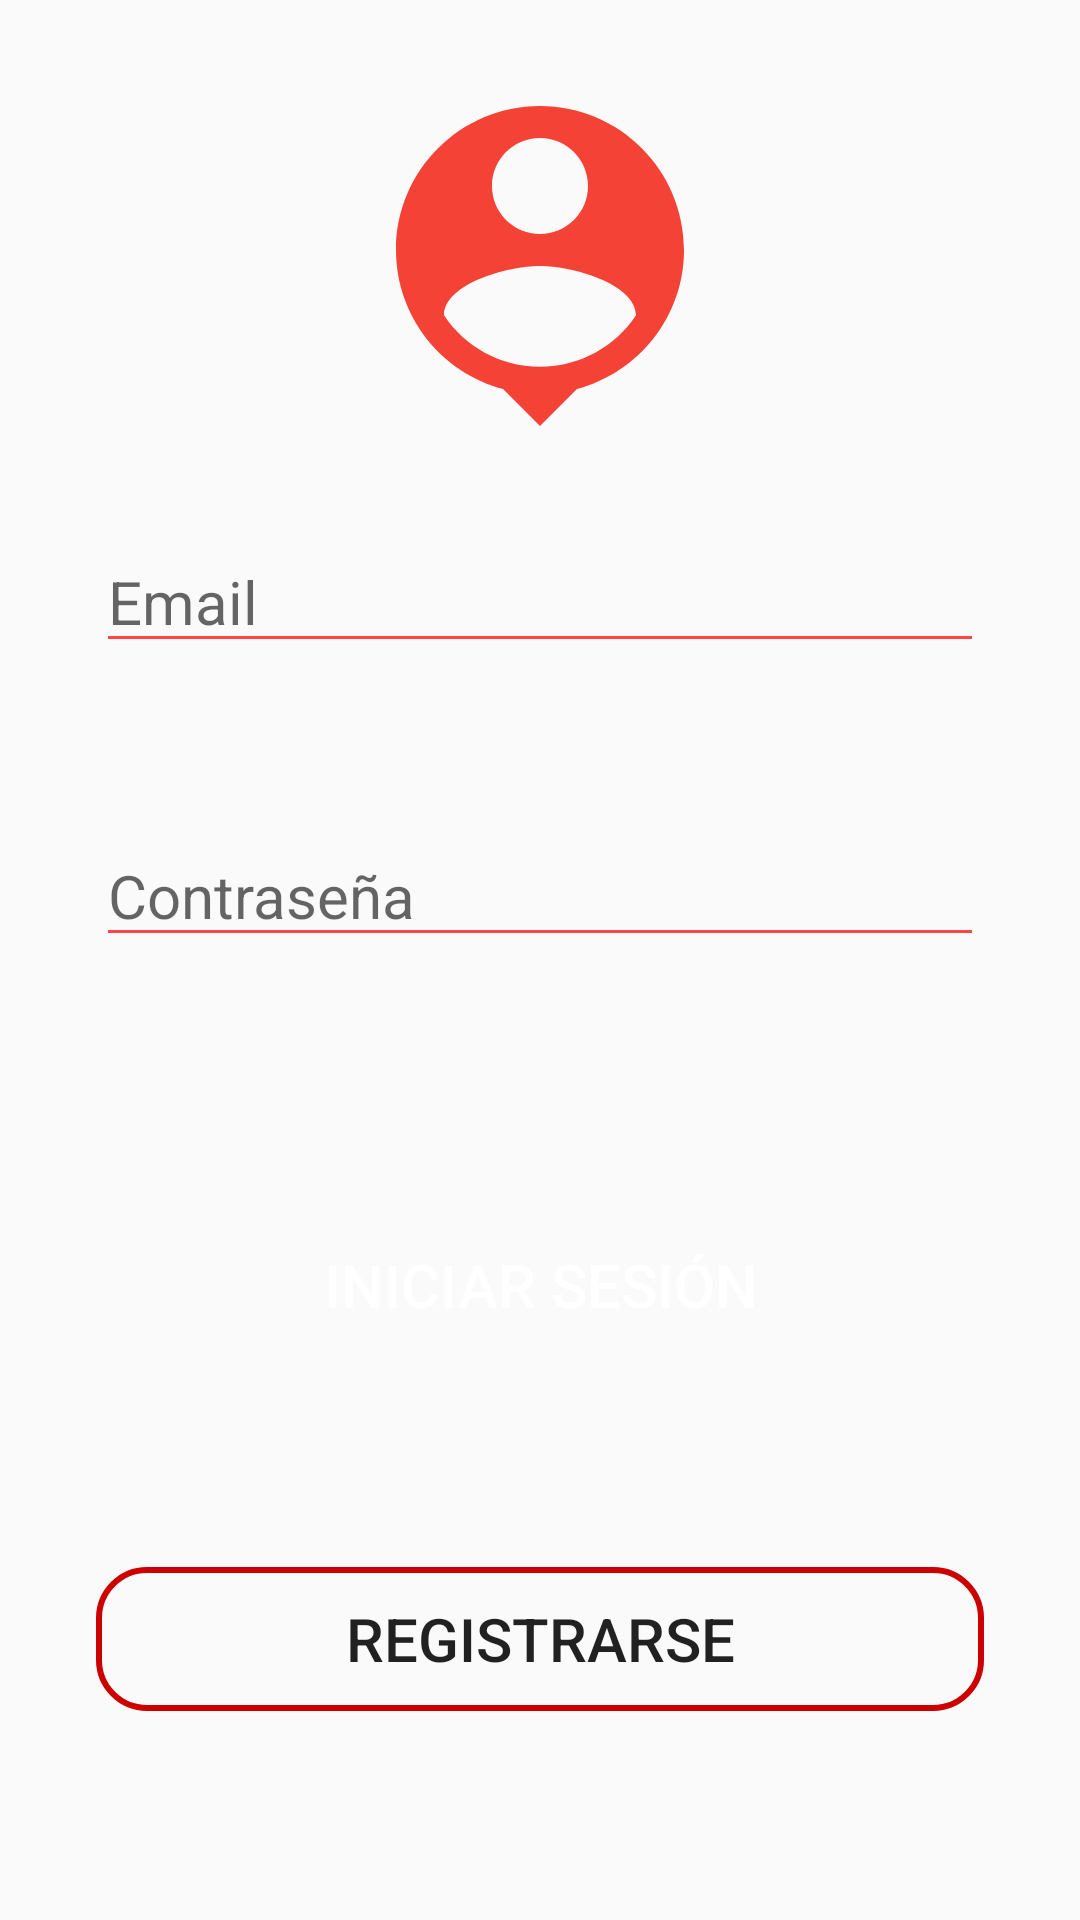

Where to tap for icons on this 1080 x 1920 app screen, as (x,y):
person: (540,266)
